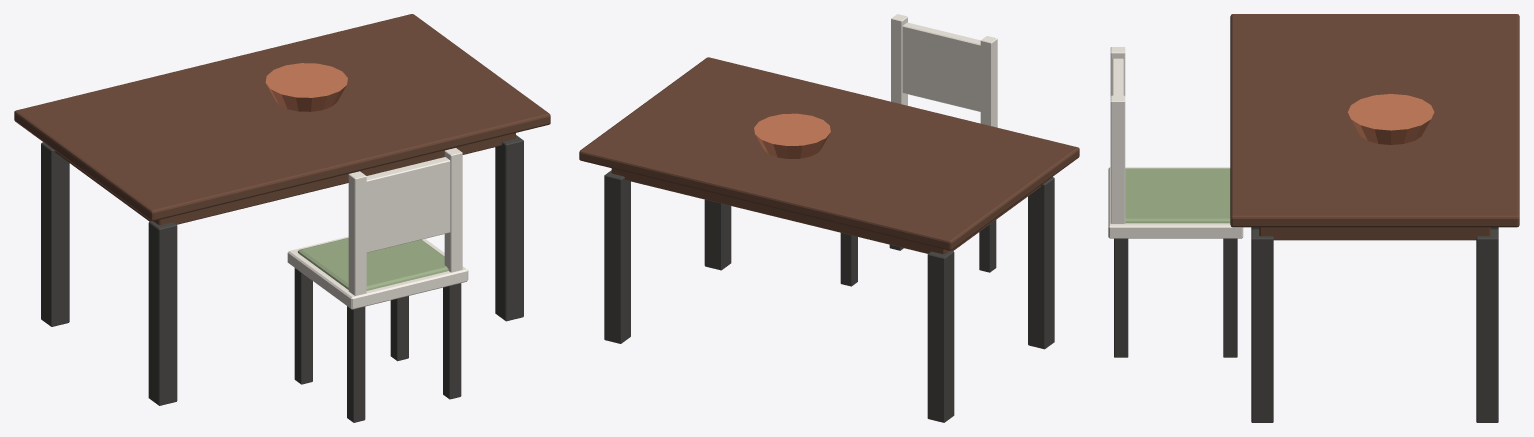
File: dining_set.glb
The picture shows the model from 3 angles, left to right: view 1: azimuth 30°, elevation 25°; view 2: azimuth 150°, elevation 25°; view 3: azimuth 270°, elevation 25°; orthographic projection. The views are drawn at different scales.
Parts seen in each view (by area): view 1: dining_set; view 2: dining_set; view 3: dining_set.
Part boxes in pixels (bbox=[...]): dining_set: bbox=[14, 14, 550, 422]; dining_set: bbox=[579, 14, 1079, 422]; dining_set: bbox=[1108, 14, 1519, 422].
Bounding box in the file's own units: 1.5 × 0.88 × 1.28.
